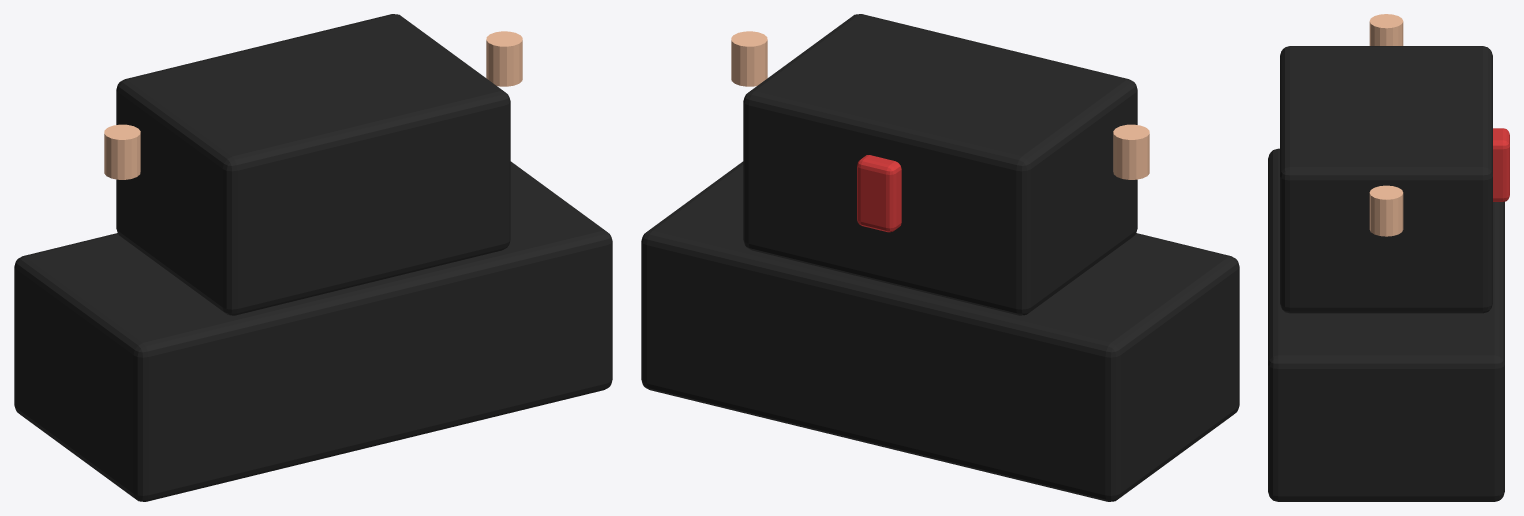
The model's file is generic-dc-breaker-250a.glb.
3 renders of one model, left to right at view 1: azimuth 30°, elevation 25°; view 2: azimuth 150°, elevation 25°; view 3: azimuth 270°, elevation 25°, orthographic. The views are drawn at different scales.
Visible parts, largest first — view 1: base, breaker, stud-in, stud-out; view 2: base, breaker, lever, stud-in, stud-out; view 3: breaker, base, stud-out, lever, stud-in.
Boxes of the visible parts, left/top/right/bottom form: base: left=14, top=161, right=612, bottom=501; breaker: left=116, top=14, right=510, bottom=315; stud-in: left=104, top=124, right=140, bottom=179; stud-out: left=486, top=31, right=522, bottom=86; base: left=641, top=161, right=1239, bottom=501; breaker: left=743, top=14, right=1137, bottom=315; lever: left=857, top=155, right=901, bottom=232; stud-in: left=1113, top=124, right=1149, bottom=179; stud-out: left=731, top=31, right=767, bottom=86; breaker: left=1280, top=46, right=1492, bottom=313; base: left=1268, top=148, right=1504, bottom=501; stud-out: left=1369, top=185, right=1403, bottom=236; lever: left=1493, top=128, right=1509, bottom=201; stud-in: left=1369, top=14, right=1403, bottom=45.
Bounding box in the file's own units: 0.15 × 0.095 × 0.0715.
